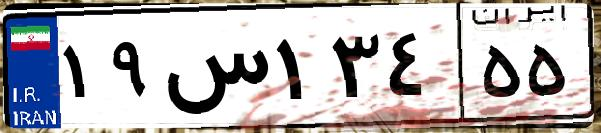1: (270, 28, 330, 110), (57, 26, 110, 100)
3: (330, 28, 385, 110)
4: (385, 28, 445, 110)
5: (475, 38, 525, 113), (525, 38, 570, 115)
9: (110, 28, 158, 98)
س: (158, 20, 270, 120)
